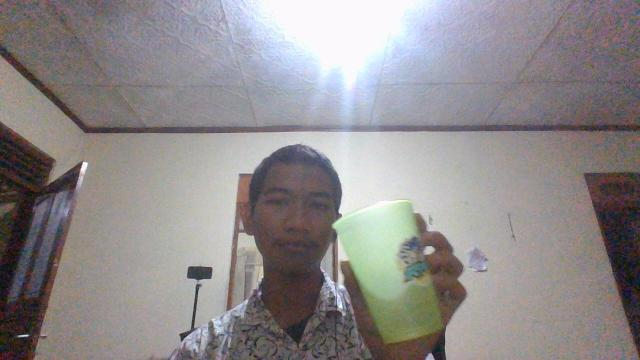botol-hijau: (331, 197, 446, 345)
